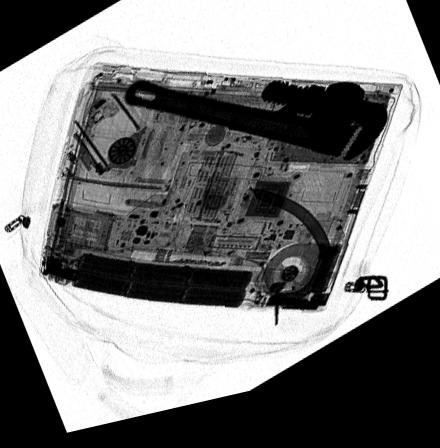Wrench: (123, 82, 391, 177)
